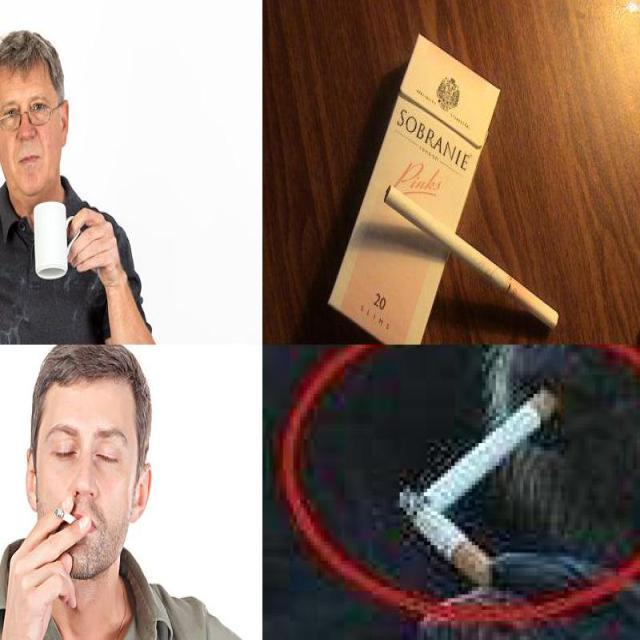smoking: (382, 185, 560, 331), (419, 384, 566, 514), (398, 486, 498, 587), (52, 499, 82, 528)
